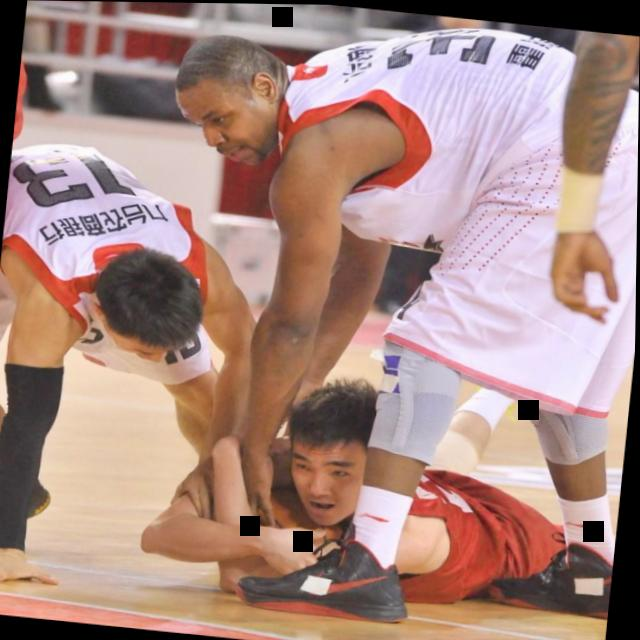Fall-Detected: (84, 323, 633, 640)
